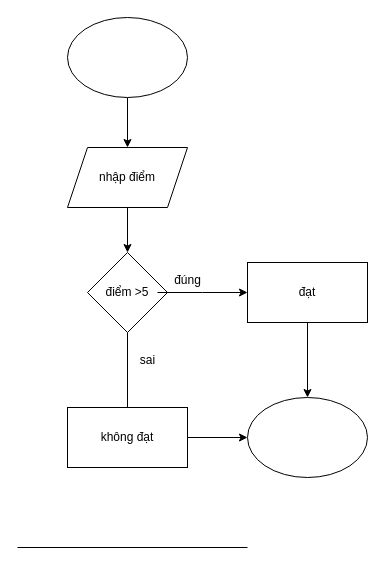
This 385x566 diagram has some shape labels left out. The centre of each missing label's shape, as x and y in pixels:
"END" belongs at [307,437].
"START" belongs at [127,57].
